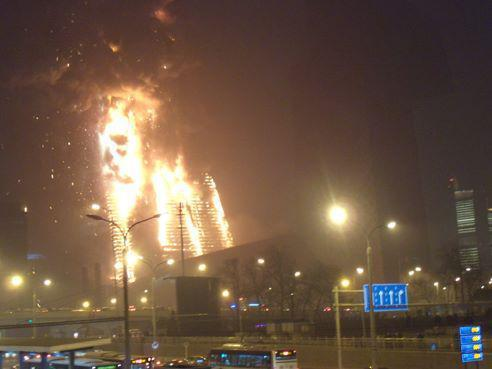fire: (85, 102, 250, 275)
